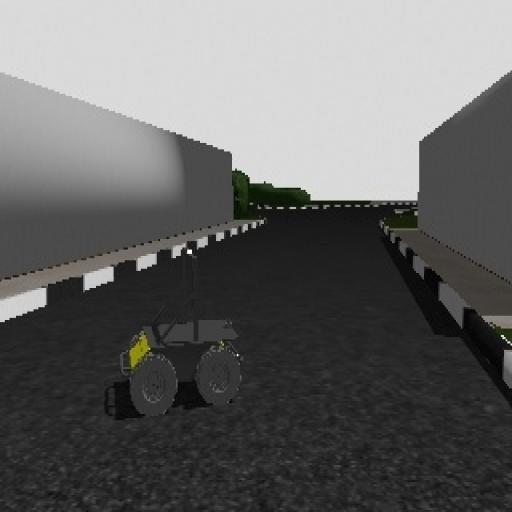huskya200: (117, 239, 247, 419)
